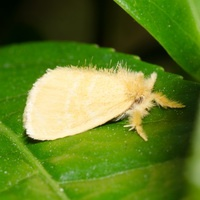insect: (23, 63, 184, 140)
